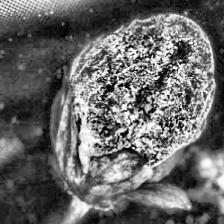Gray Mold: (48, 12, 218, 209)
